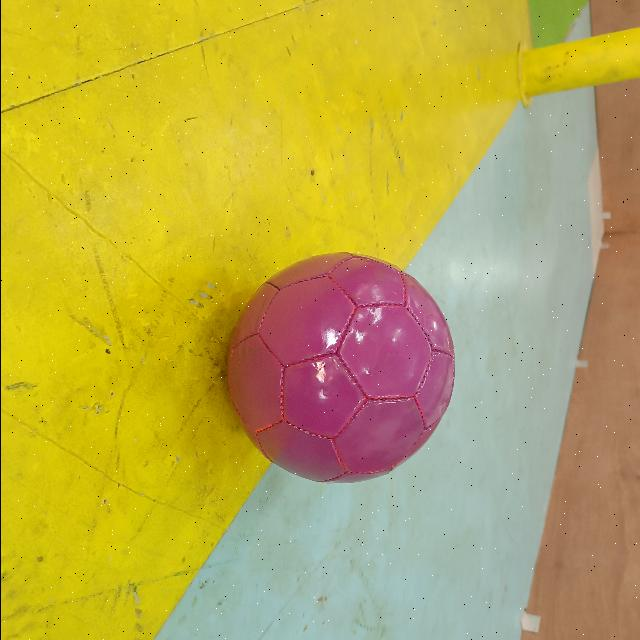P: (222, 248, 458, 486)
